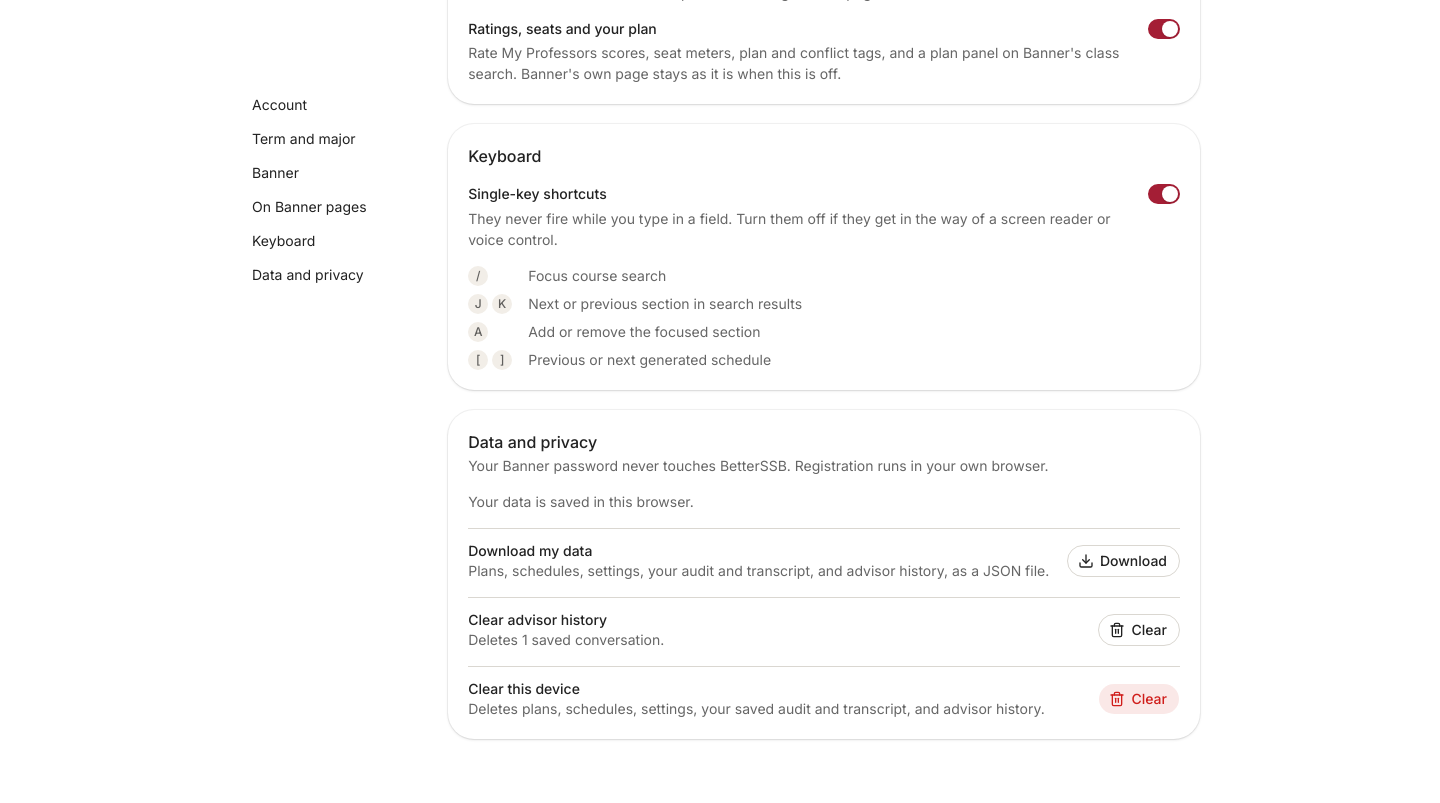
SettingsPage › clears advisor history only after confirming
The image size is (1440, 803).
(page scrolled)
Step 1. Click the button with aria-label "Clear advisor history" → (1139,630), box [1098, 614, 1180, 646]
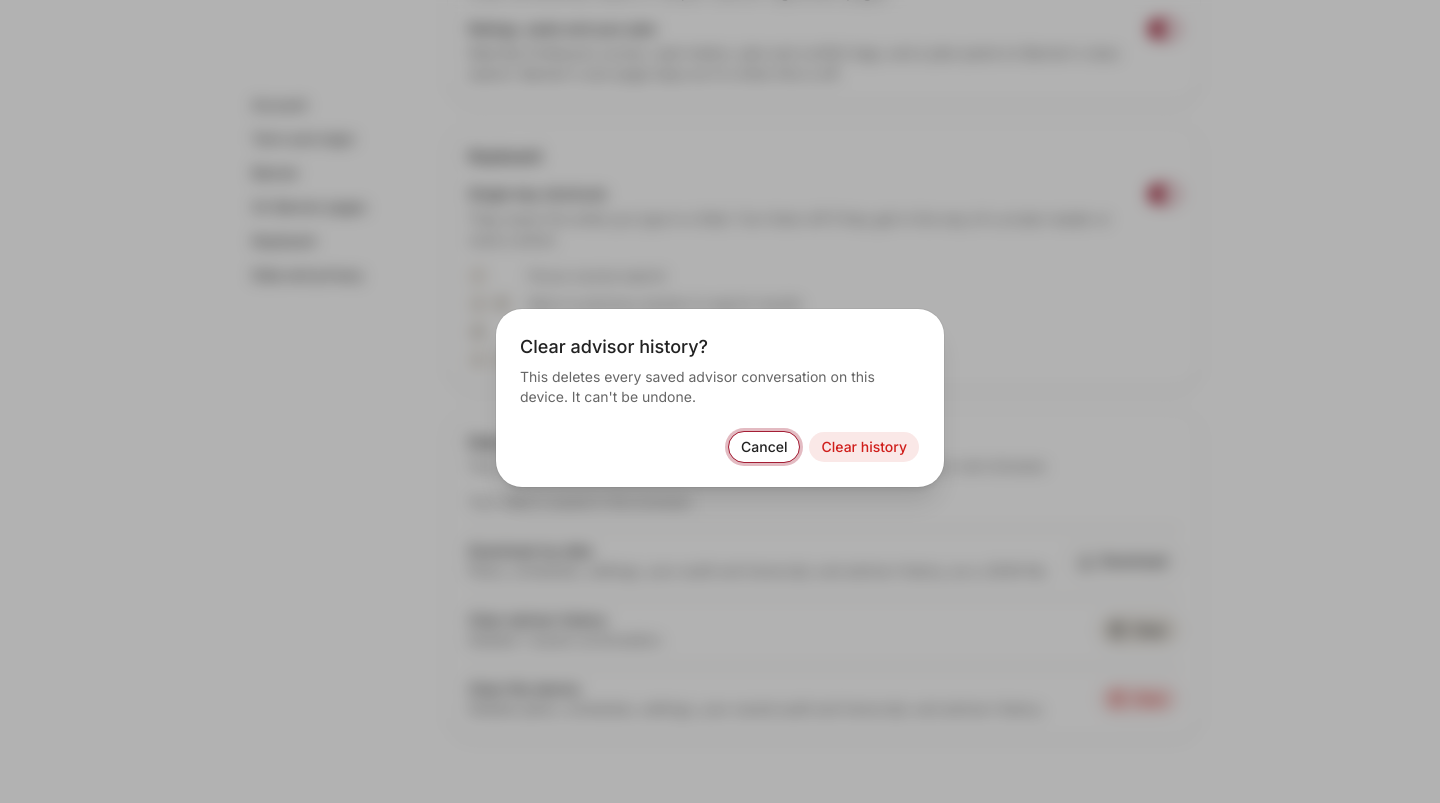
Step 2. Click the button "Cancel" → (764,447), box [728, 431, 800, 463]
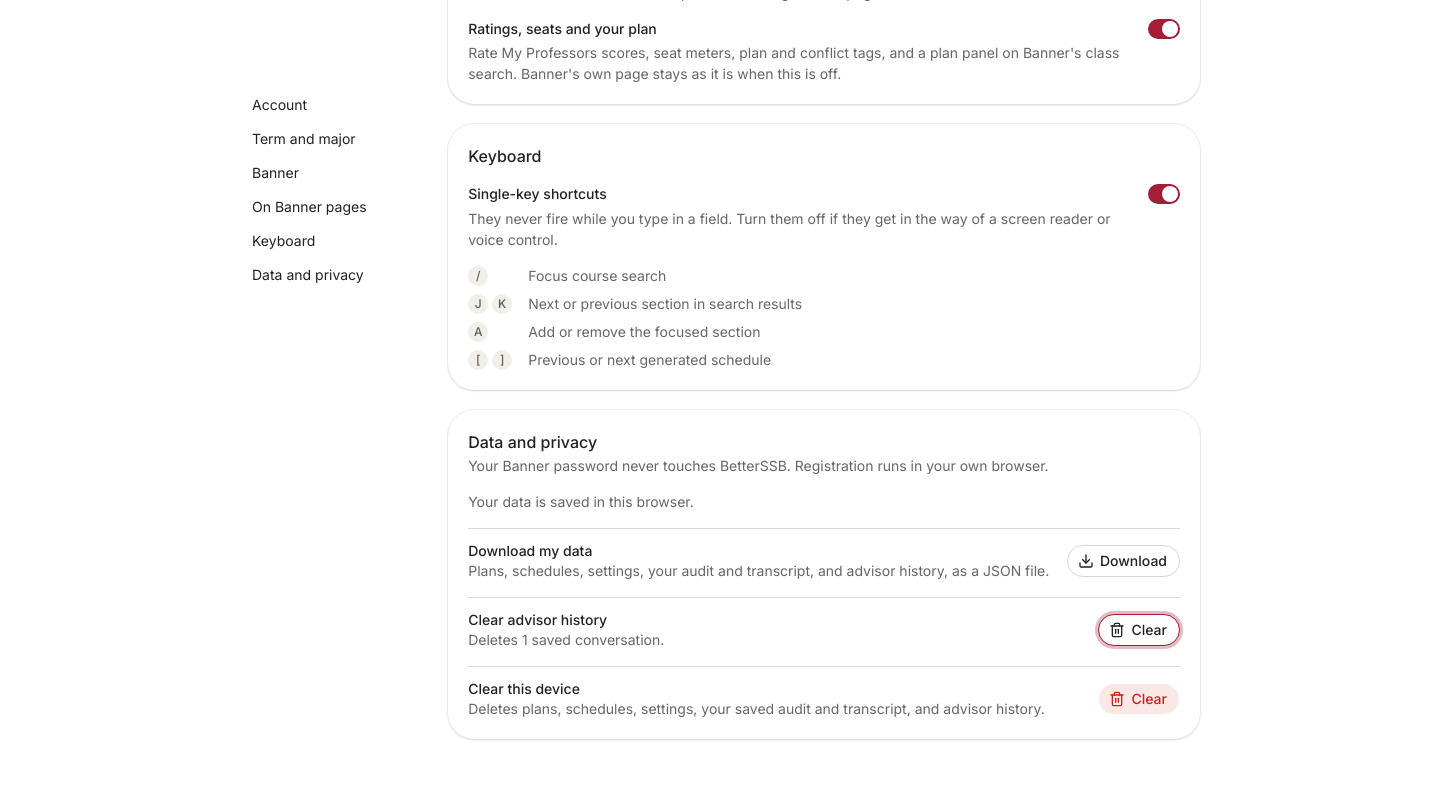
Step 3. Click the button with aria-label "Clear advisor history" → (1139,630), box [1098, 614, 1180, 646]
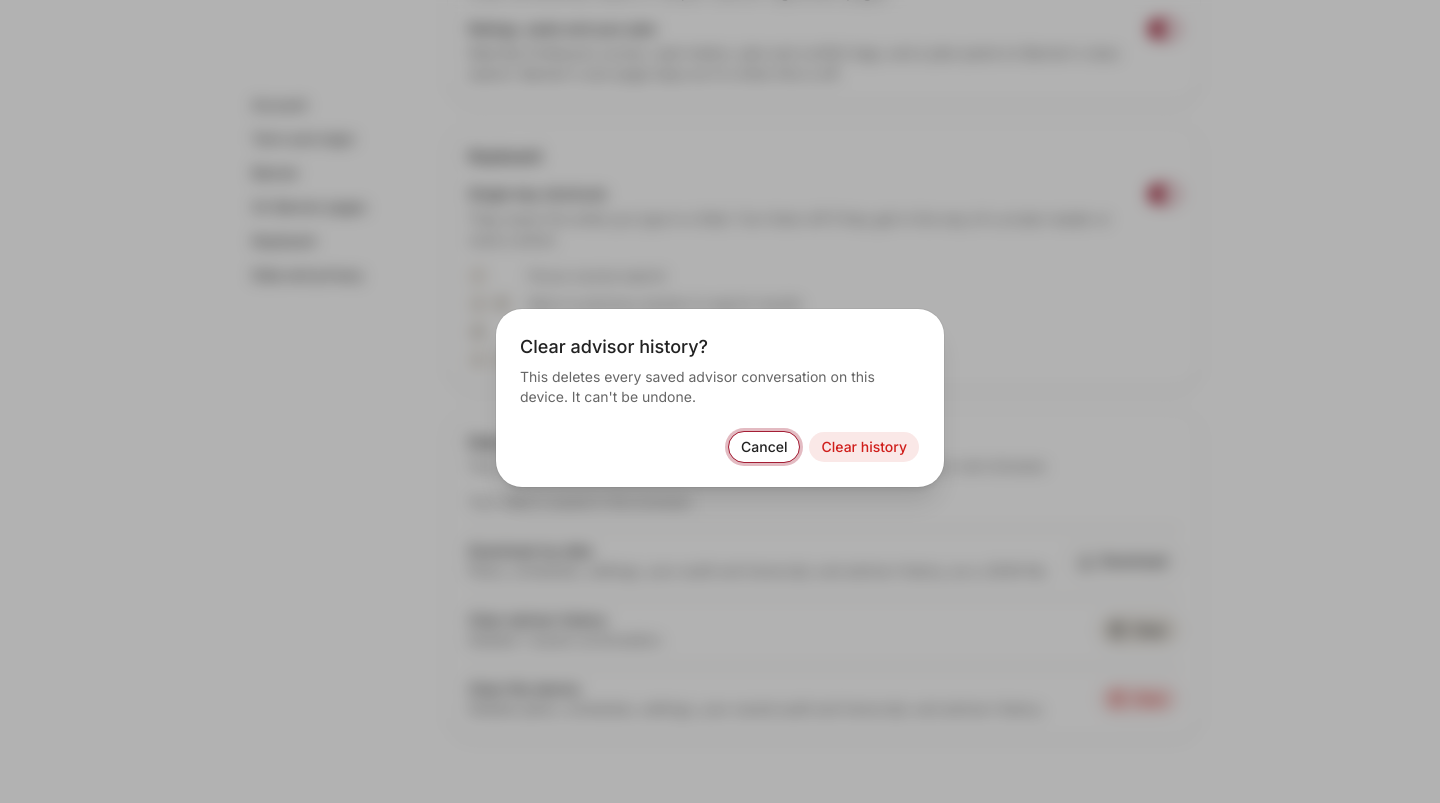
Step 4. Click the button "Clear history" → (864,447), box [808, 431, 920, 463]
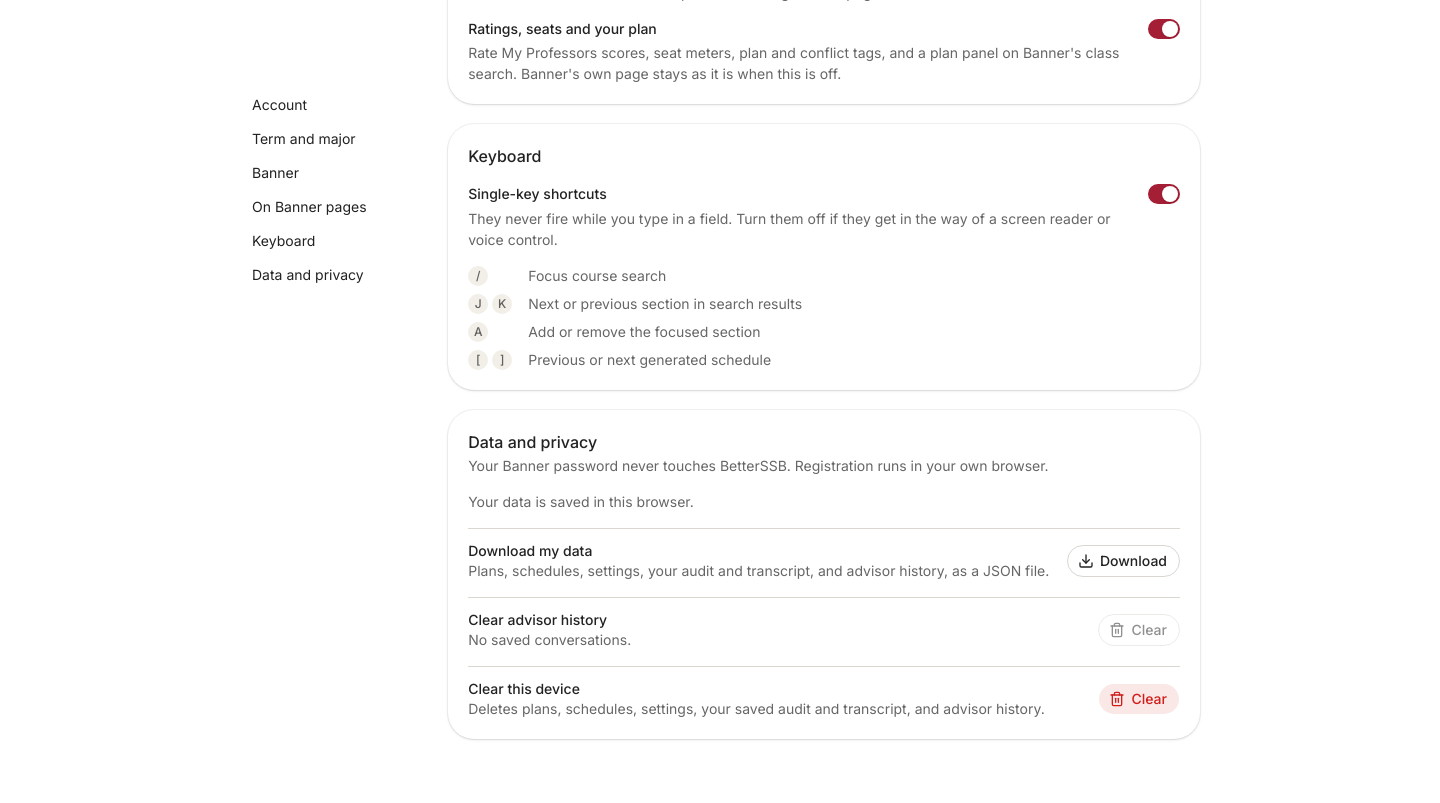
Check: the dialog is gone
